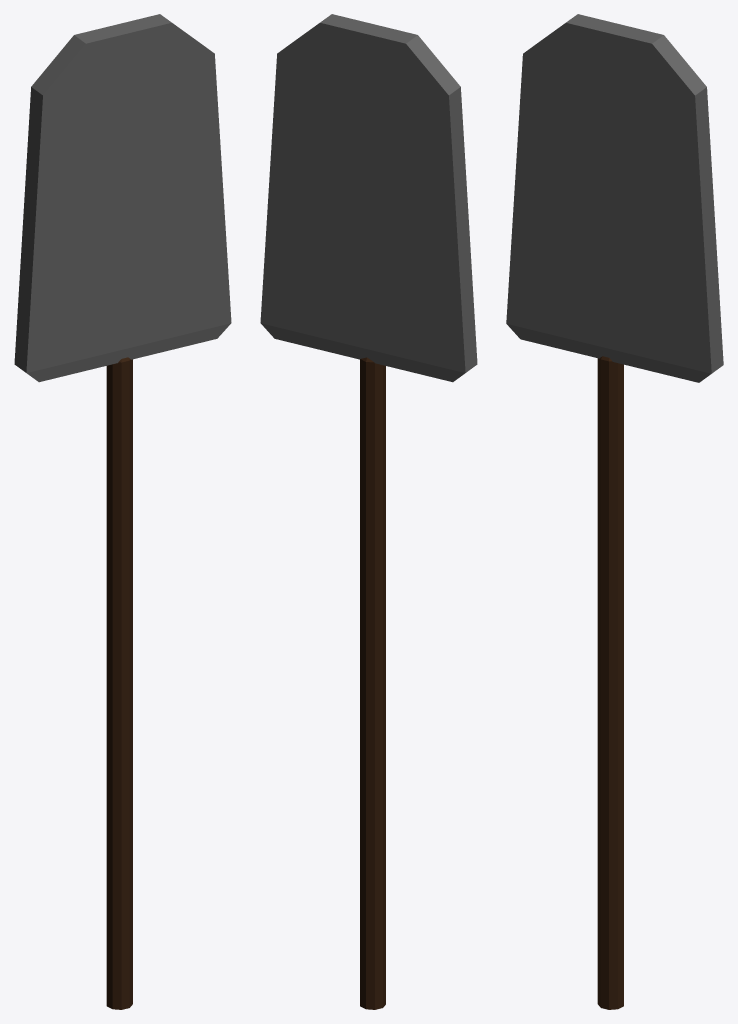
The model's file is лопата.fbx.
The picture shows the model from 3 angles, left to right: view 1: azimuth 30°, elevation 25°; view 2: azimuth 150°, elevation 25°; view 3: azimuth 330°, elevation 25°; orthographic projection.
Parts seen in each view (by area): view 1: Cube; view 2: Cube; view 3: Cube.
Part boxes in pixels (bbox=[...]): Cube: bbox=[14, 14, 231, 1009]; Cube: bbox=[260, 14, 477, 1009]; Cube: bbox=[506, 14, 723, 1009].
Size of the model in its own units: 365 by 1655 by 40.33.
